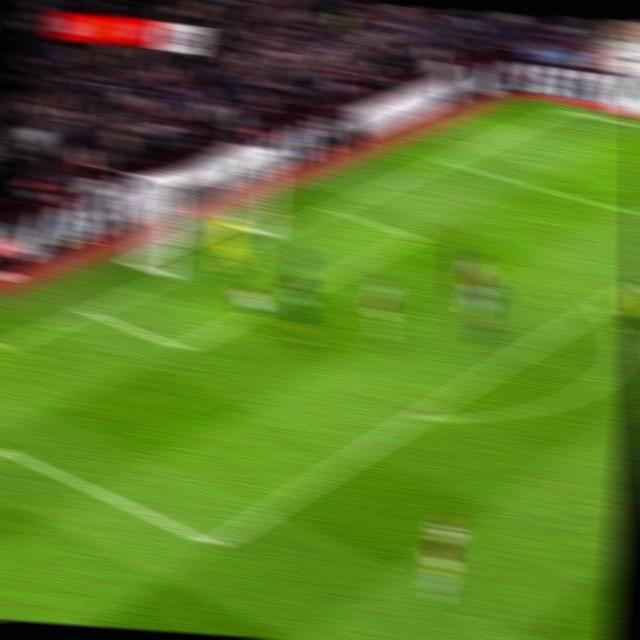bigarea_bottom_inner: (199, 532, 233, 562)
bigarea_top_outter: (434, 154, 458, 168)
bottom_arc_area_intersection: (403, 402, 438, 430)
corner: (549, 104, 579, 118)
smallarea_bottom_inner: (171, 337, 195, 358)
smallarea_bottom_outter: (76, 299, 102, 324)
smallarea_top_inner: (403, 226, 430, 248)
smallarea_top_outter: (320, 202, 344, 220)
top_arc_area_intersection: (586, 296, 612, 322)
